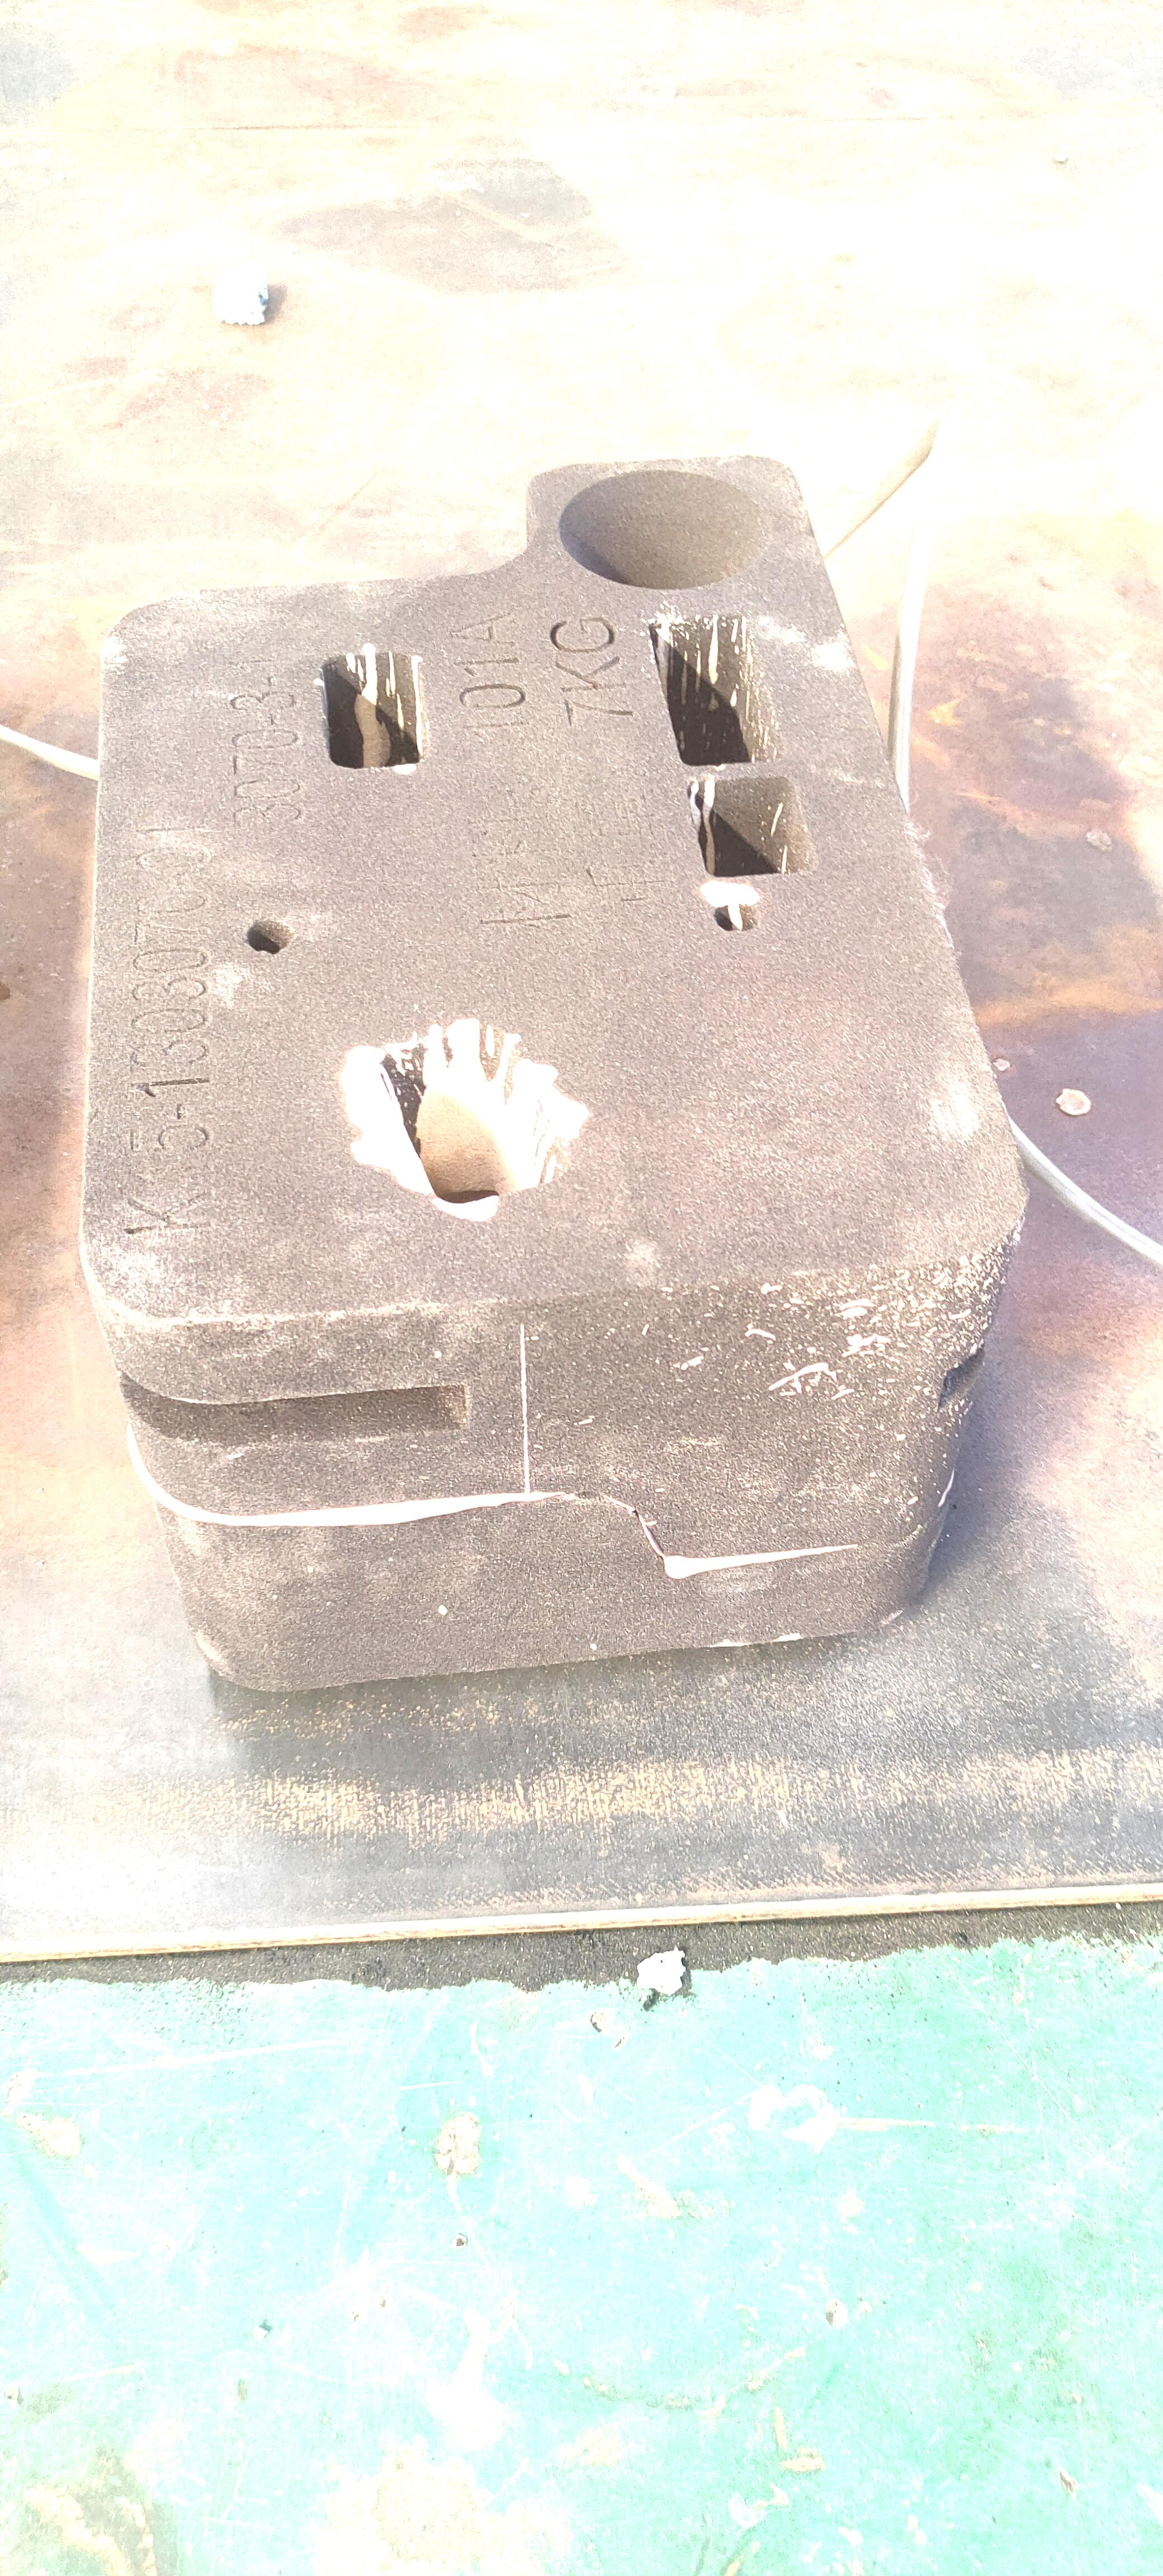pouring hole: (555, 468, 764, 591)
